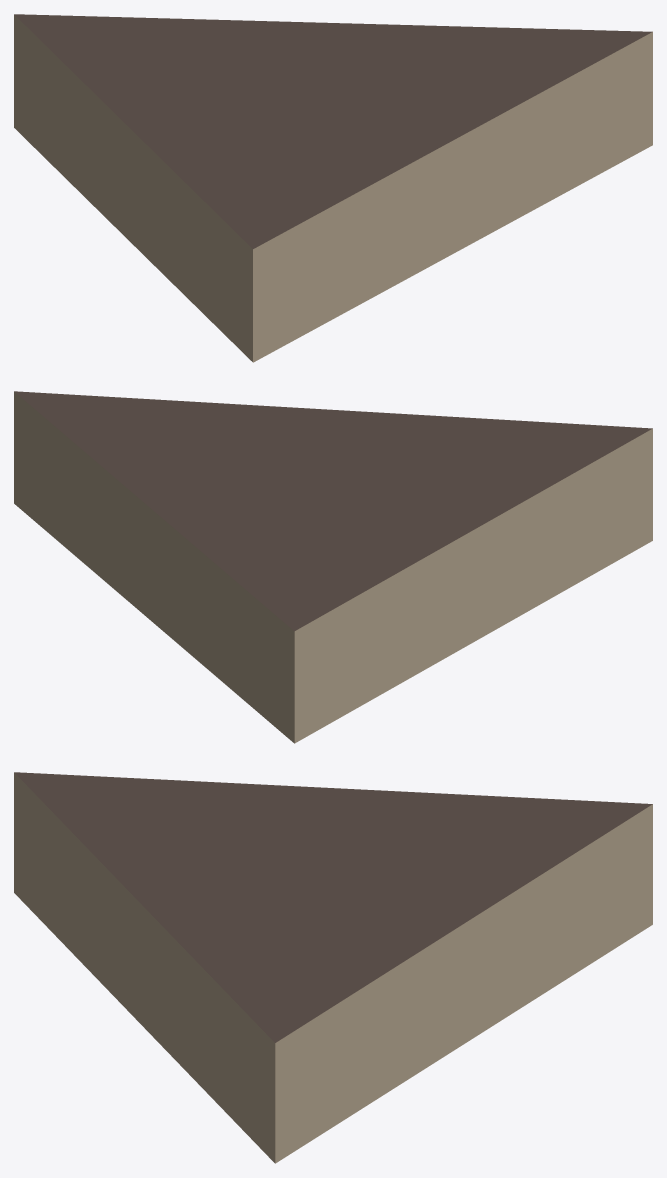
3 renders of one model, top to bottom at view 1: azimuth 30°, elevation 25°; view 2: azimuth 150°, elevation 25°; view 3: azimuth 270°, elevation 25°, orthographic. The views are drawn at different scales.
Visible parts, largest first — view 1: HP-w165952550; view 2: HP-w165952550; view 3: HP-w165952550.
Boxes of the visible parts, x1,y1,x2,y2 form: HP-w165952550: (14, 14, 652, 362); HP-w165952550: (14, 391, 652, 743); HP-w165952550: (14, 772, 652, 1163).
Size of the model in its own units: 43.39 by 9 by 43.23.
